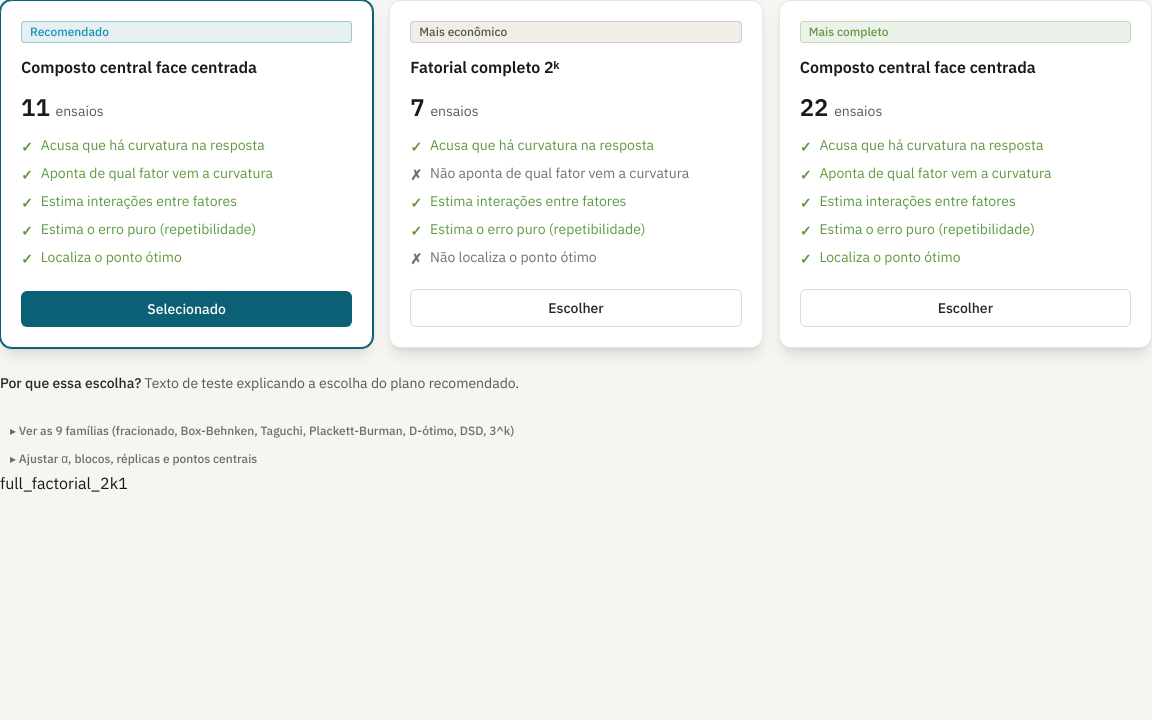
Test: VitrineDePlanos — disclosure do catálogo avançado › o disclosure revela o DesignPicker (seletor de família completo)
Expected: the text "família de planejamento" is not shown
What coordinates should you click on to do the following:
click the button "Ver as 9 famílias"
I would click on:
 (262, 431)
Its box is [0,419,524,443].
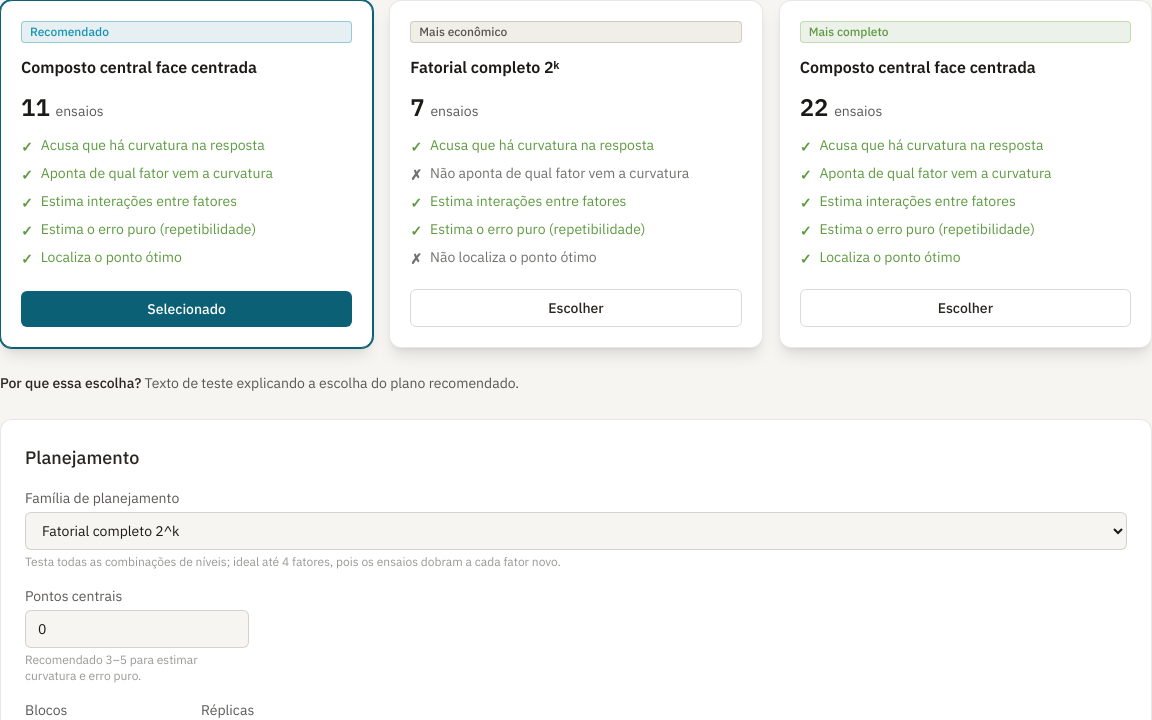
Expected: the text "Réplicas" is shown, [201,701,254,719]
Now the text "Família de planejamento" is shown, box [25,489,179,507]
